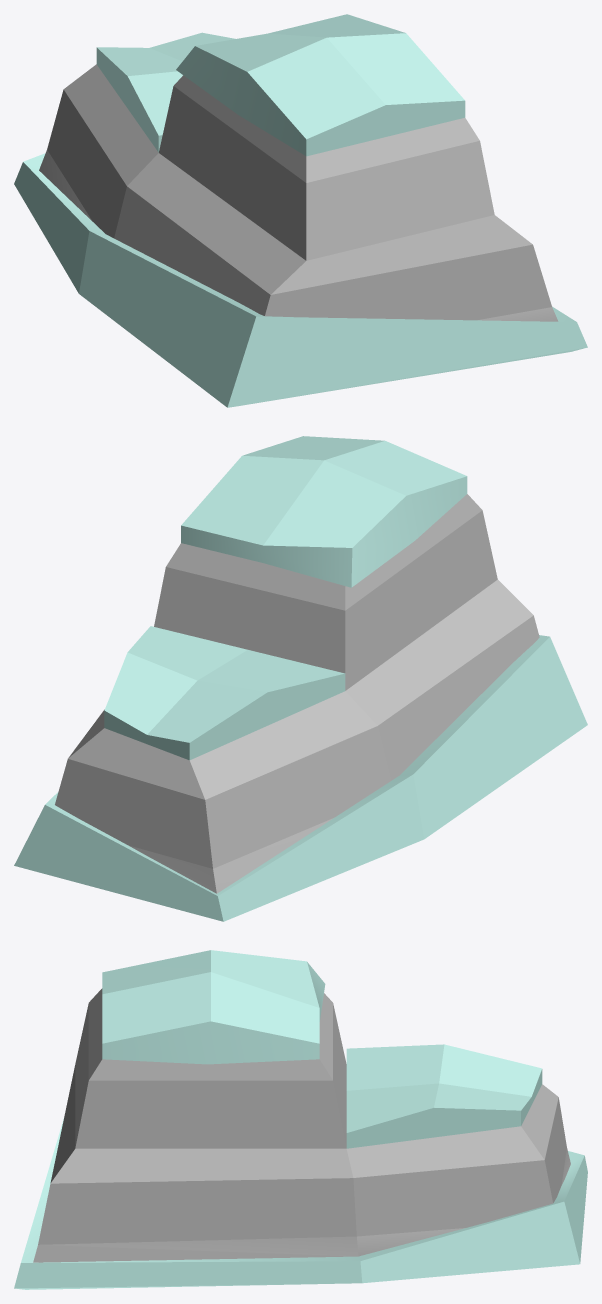
File: Rock6.FBX
3 views of the same model, one above another, from view 1: azimuth 30°, elevation 25°; view 2: azimuth 150°, elevation 25°; view 3: azimuth 270°, elevation 25° (orthographic). The views are drawn at different scales.
Visible parts, largest first — view 1: Rock6, Rock6_B; view 2: Rock6_B, Rock6; view 3: Rock6, Rock6_B.
Boxes of the visible parts, x1=… form: Rock6: x1=39, y1=64, x2=558, y2=321; Rock6_B: x1=14, y1=14, x2=587, y2=407; Rock6_B: x1=14, y1=436, x2=587, y2=921; Rock6: x1=55, y1=494, x2=539, y2=893; Rock6: x1=33, y1=988, x2=570, y2=1262; Rock6_B: x1=14, y1=950, x2=587, y2=1289.
Bounding box in the file's own units: 5490 × 4362 × 8956.
